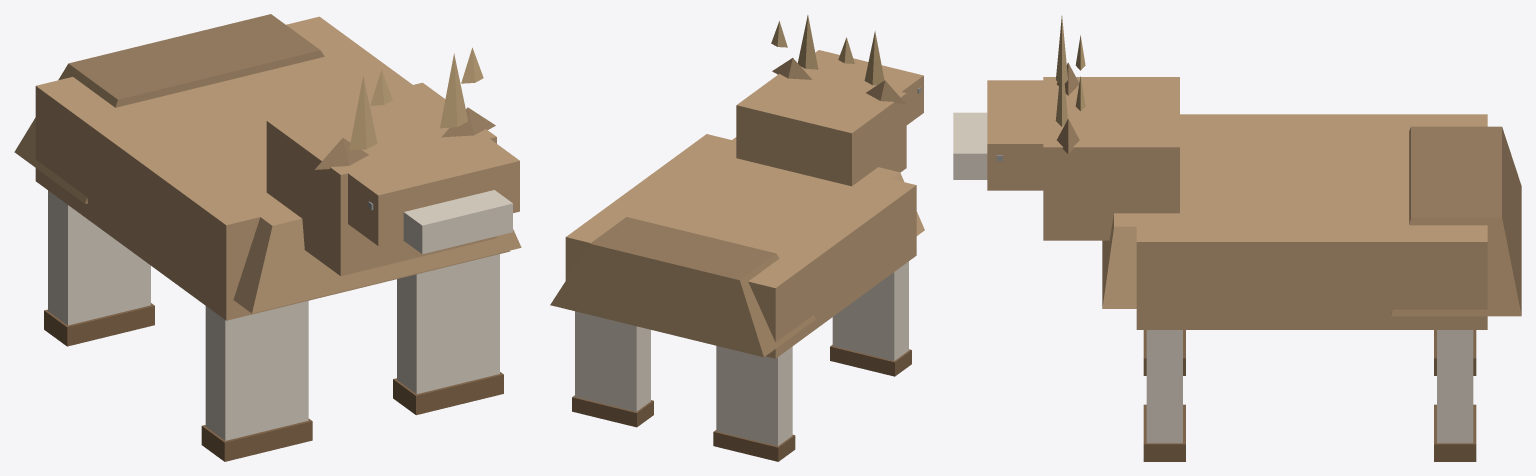
Rendered from Deer.fbx.
3 views of the same model, side by side, from view 1: azimuth 30°, elevation 25°; view 2: azimuth 150°, elevation 25°; view 3: azimuth 270°, elevation 25° (orthographic). The views are drawn at different scales.
Visible parts, largest first — view 1: Deer_Body, Deer_Neck, Deer_Rump, Deer_Head, Deer_Leg, Deer_Leg.002, Deer_Chest, Deer_Leg.001, Deer_Muzzle, Deer_Hoof, Deer_Hoof.002, Deer_Hoof.001 (+4 smaller); view 2: Deer_Body, Deer_Rump, Deer_Neck, Deer_Leg.001, Deer_Leg.003, Deer_Leg, Deer_Head, Deer_Hoof.001, Deer_Hoof.003, Deer_Hoof, Deer_Antler.001, Deer_Antler (+3 smaller); view 3: Deer_Body, Deer_Neck, Deer_Rump, Deer_Head, Deer_Chest, Deer_Leg.002, Deer_Leg.003, Deer_Muzzle, Deer_Hoof.002, Deer_Hoof.003.
Part boxes in pixels (x1,y1,x2,y2): Deer_Body: (35,16,510,320); Deer_Neck: (266,82,496,276); Deer_Rump: (14,14,324,203); Deer_Head: (318,121,519,245); Deer_Leg: (205,301,308,440); Deer_Leg.002: (397,254,499,393); Deer_Chest: (221,177,521,313); Deer_Leg.001: (48,190,150,325); Deer_Muzzle: (403,190,512,254); Deer_Hoof: (201,418,312,461); Deer_Hoof.002: (393,372,503,415); Deer_Hoof.001: (44,303,154,346); Deer_Body: (565,134,916,358); Deer_Rump: (550,217,815,357); Deer_Neck: (736,69,906,186); Deer_Leg.001: (716,346,792,446); Deer_Leg.003: (575,311,650,411); Deer_Leg: (832,261,908,360); Deer_Head: (774,50,923,124); Deer_Hoof.001: (713,430,795,461); Deer_Hoof.003: (572,395,653,427); Deer_Hoof: (830,345,911,376); Deer_Antler.001: (798,15,818,69); Deer_Antler: (864,31,884,85); Deer_Body: (1136,114,1487,329); Deer_Neck: (1043,77,1179,240); Deer_Rump: (1391,126,1521,316); Deer_Head: (987,80,1099,190); Deer_Chest: (1102,129,1208,308); Deer_Leg.002: (1146,330,1182,443); Deer_Leg.003: (1437,330,1473,443); Deer_Muzzle: (953,112,987,179); Deer_Hoof.002: (1143,404,1185,461); Deer_Hoof.003: (1434,404,1476,461).
Bounding box in the file's own units: 130 × 170 × 240.
